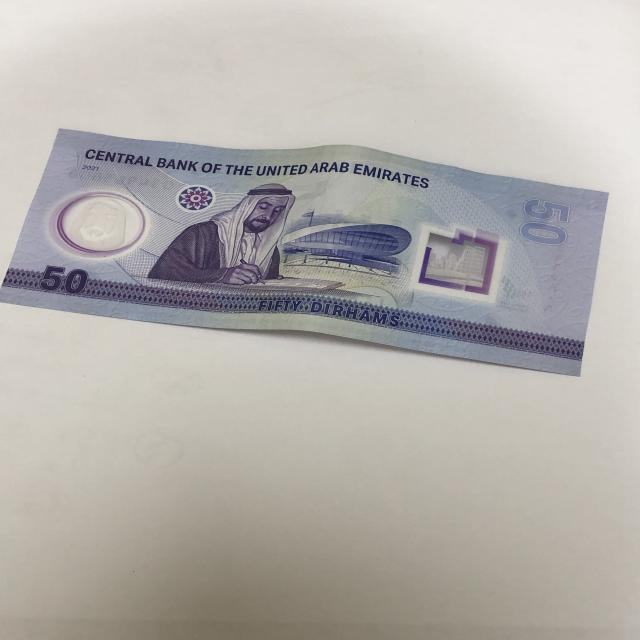50_AED: (2, 128, 615, 378)
